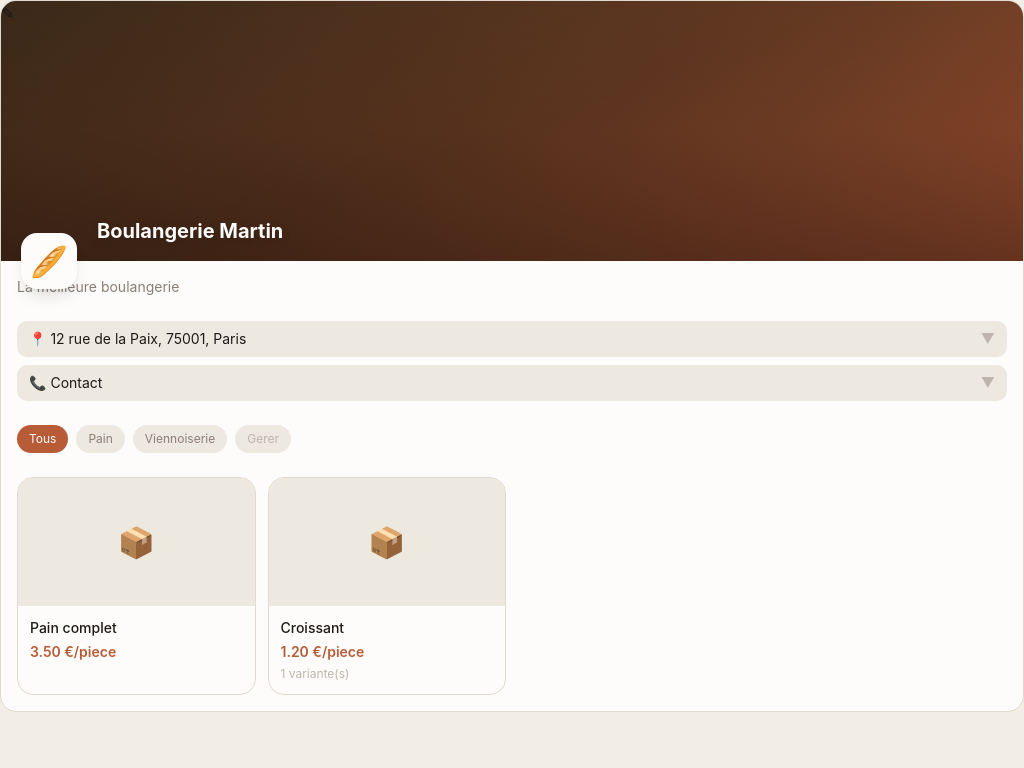
VitrinePreview › toggles featured category star
What coordinates should you click on to do the following:
click the button "Gerer"
I would click on:
 (263, 439)
Its box is [235,425,291,453].
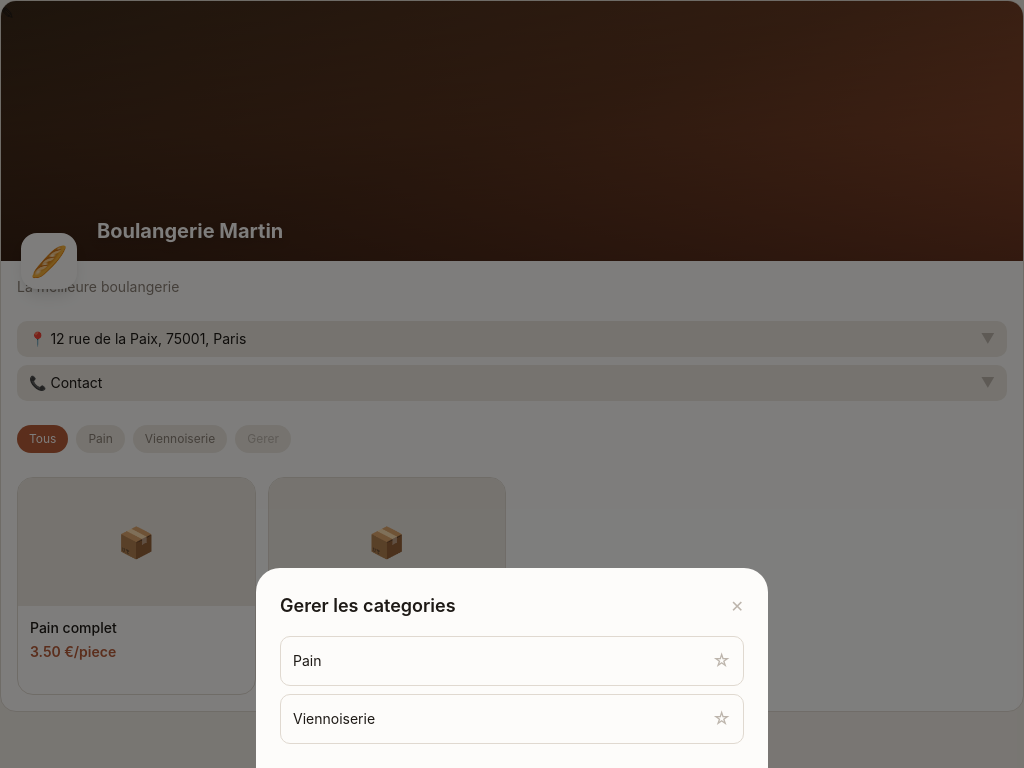
What coordinates should you click on to do the following:
click the 1st button "☆"
I would click on:
 (722, 661)
Its box is [712,647,731,675].
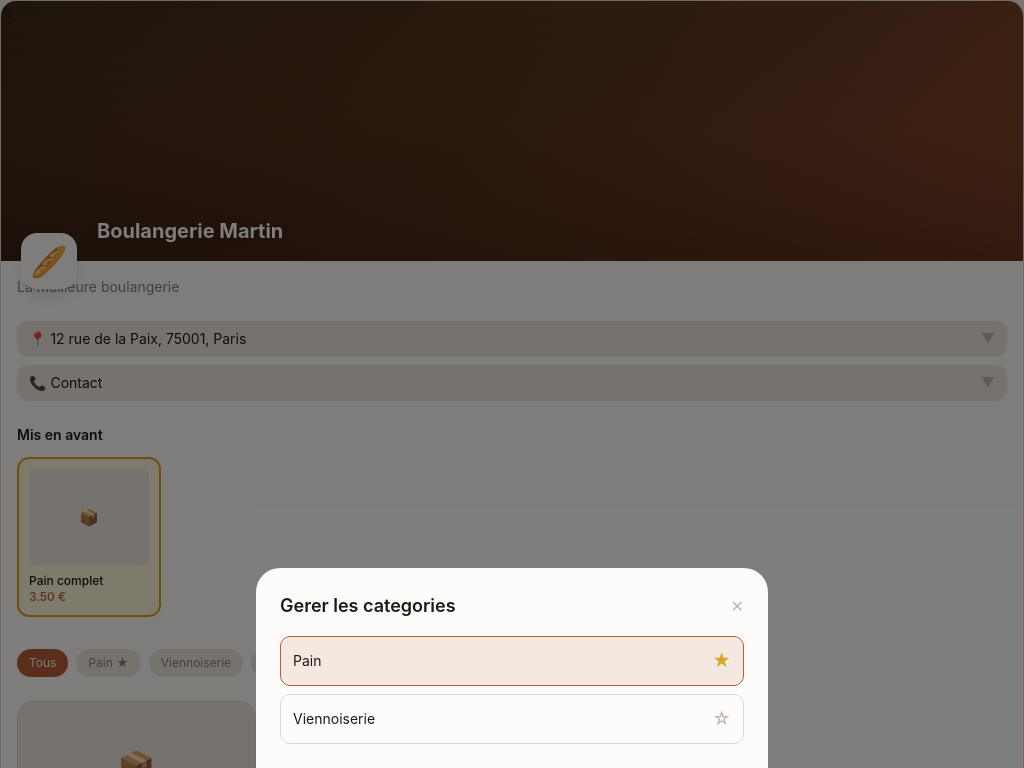
Now the button "★" is shown, box [712,647,731,675]
